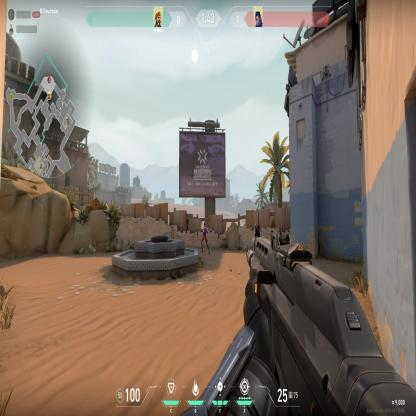enemy: (200, 220, 211, 255)
